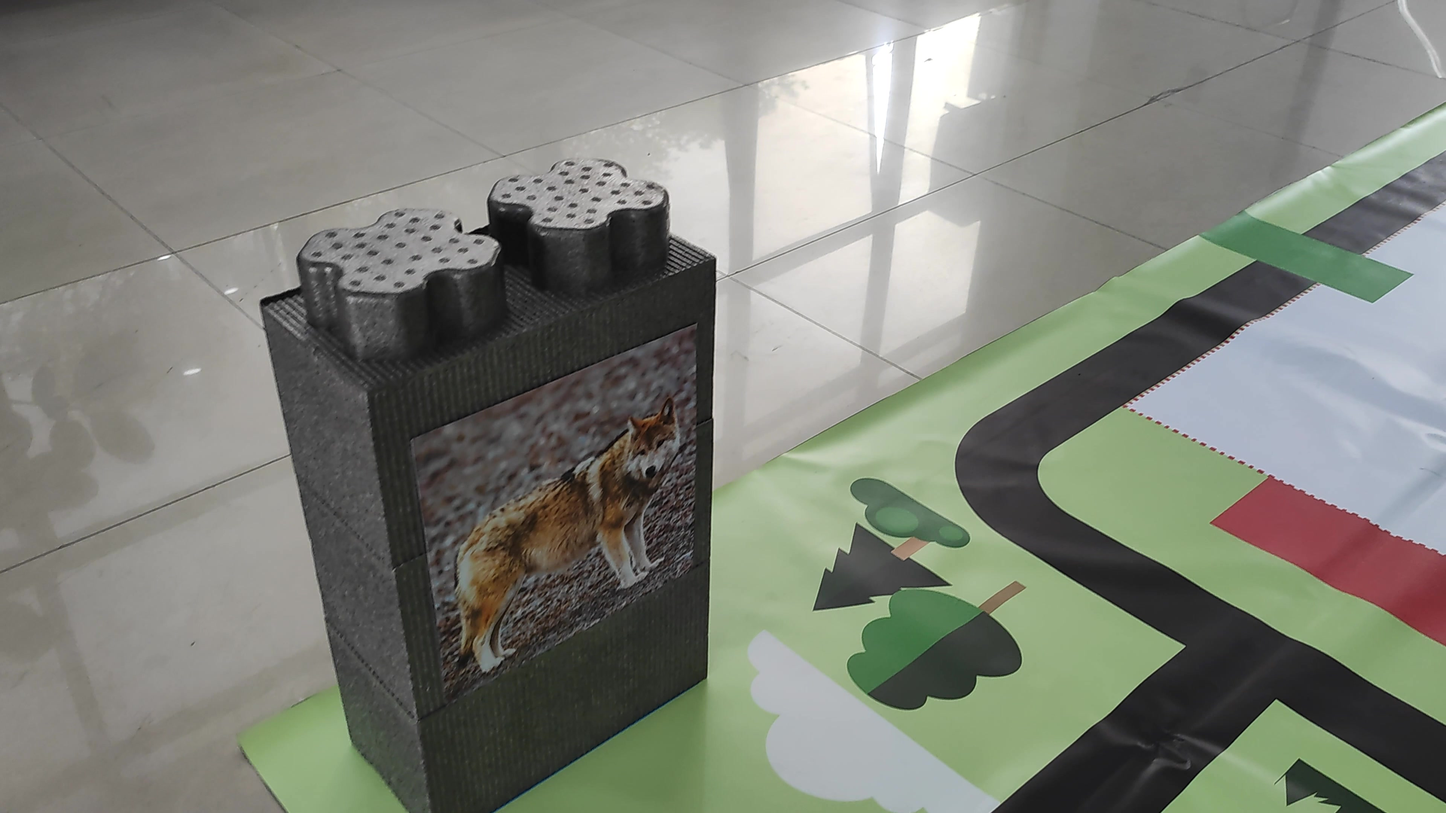wolf: (426, 389, 682, 695)
